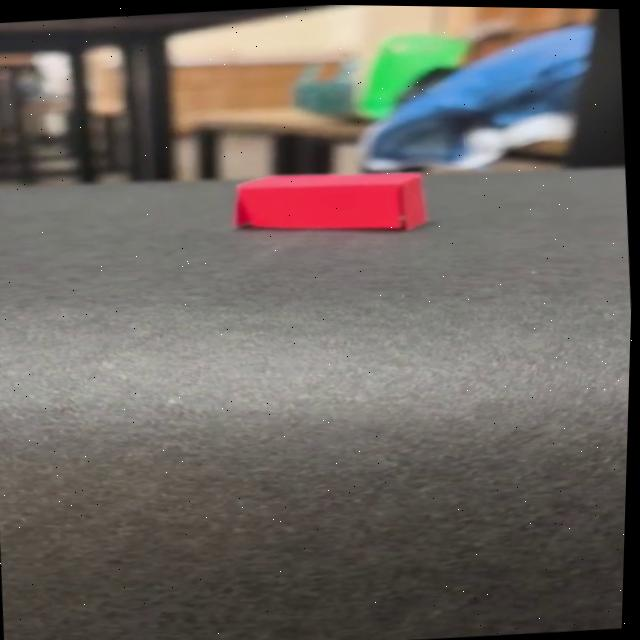red block: (229, 161, 430, 241)
